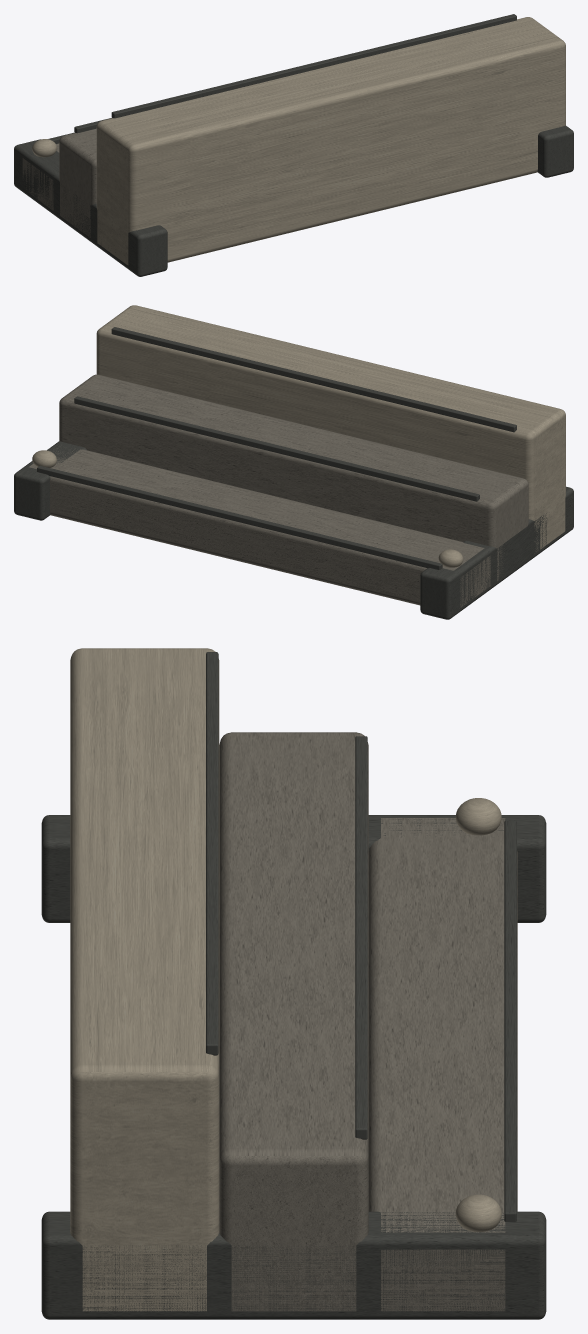
Rendered from stone_steps.glb.
The picture shows the model from 3 angles, top to bottom: view 1: azimuth 30°, elevation 25°; view 2: azimuth 150°, elevation 25°; view 3: azimuth 270°, elevation 25°; orthographic projection. The views are drawn at different scales.
Visible parts, largest first — view 1: stone_steps; view 2: stone_steps; view 3: stone_steps.
Part boxes in pixels (x1,y1,x2,y2): stone_steps: (14, 14, 573, 276); stone_steps: (14, 305, 573, 619); stone_steps: (41, 648, 546, 1319).
Size of the model in its own units: 2.8 by 0.8 by 1.4.
1 material, 1 textured.
